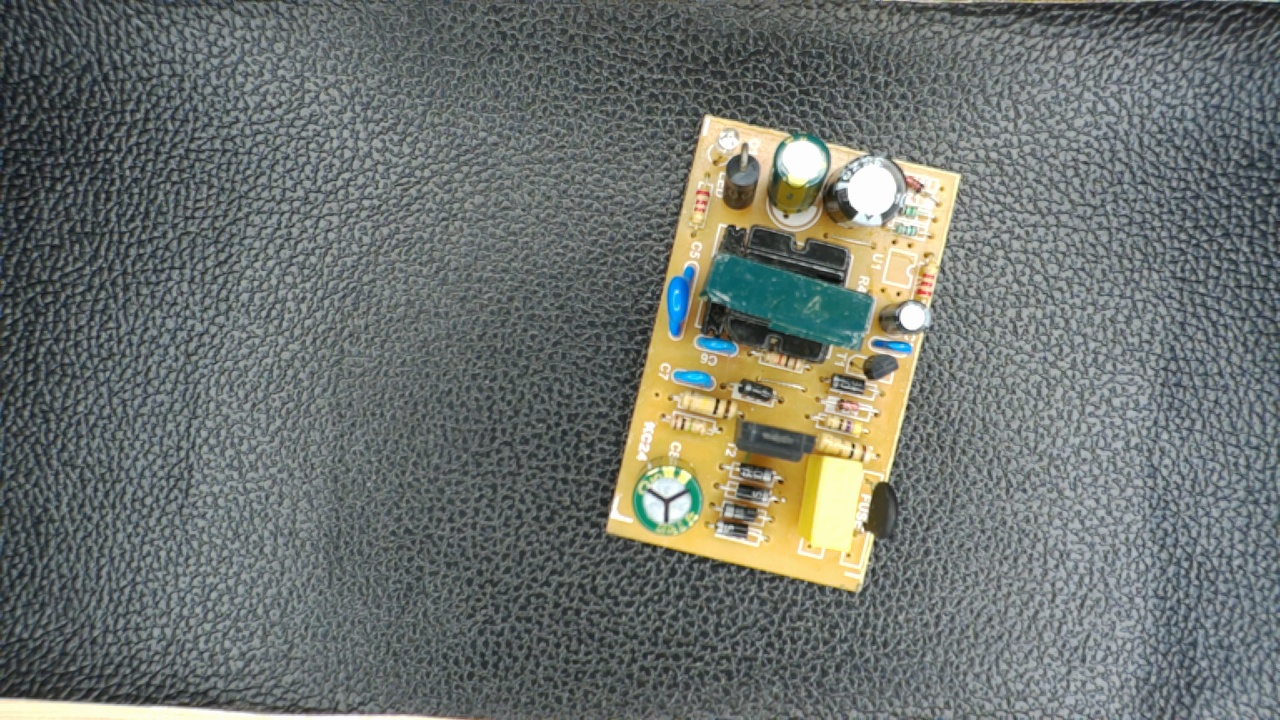fuse: (852, 467, 900, 555)
hv_capacitor: (633, 452, 704, 536)
mov: (660, 255, 698, 344)
